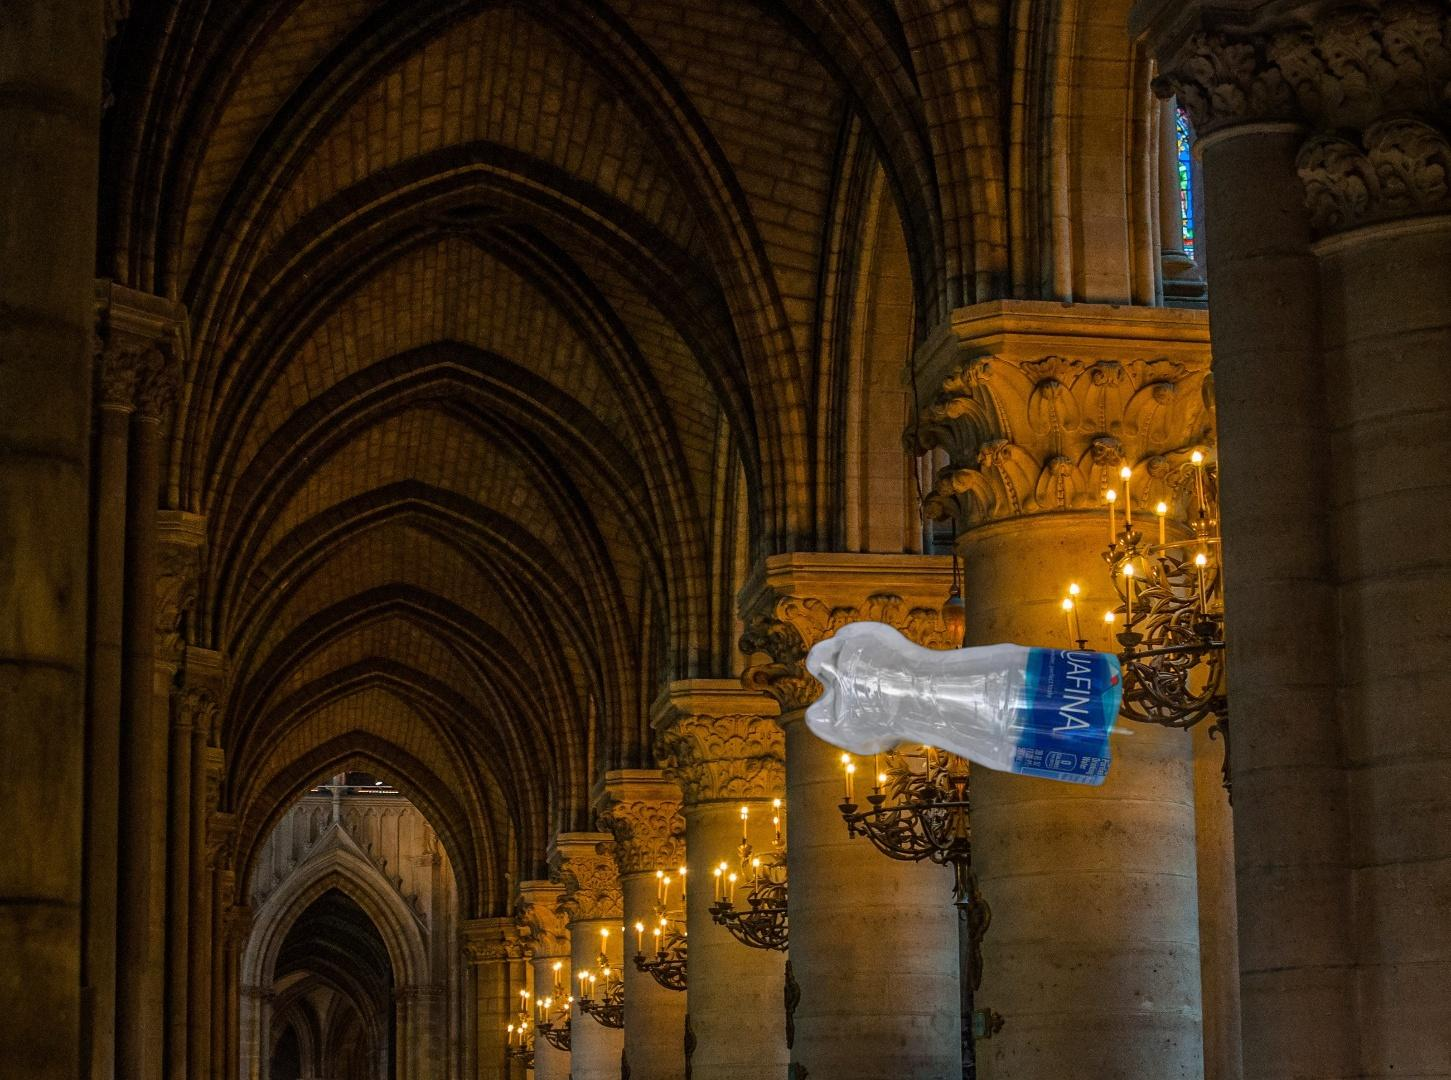plastic-bottles: (799, 617, 1245, 791)
